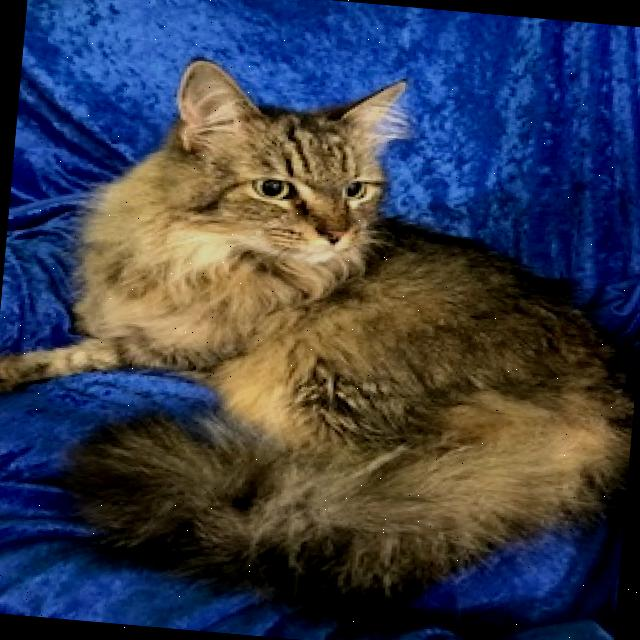maine_coon_cat: (138, 38, 432, 297)
